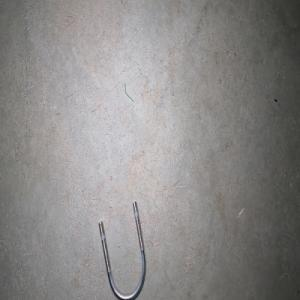ClampPart: (98, 200, 146, 300)
